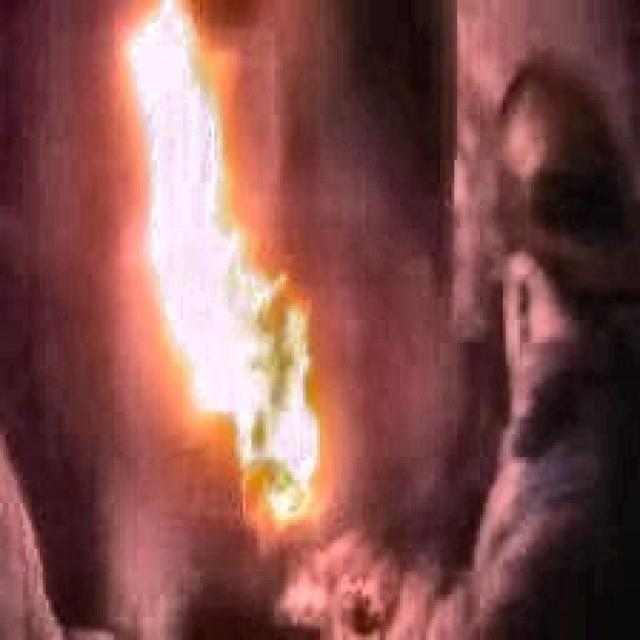fire: (131, 4, 326, 536)
